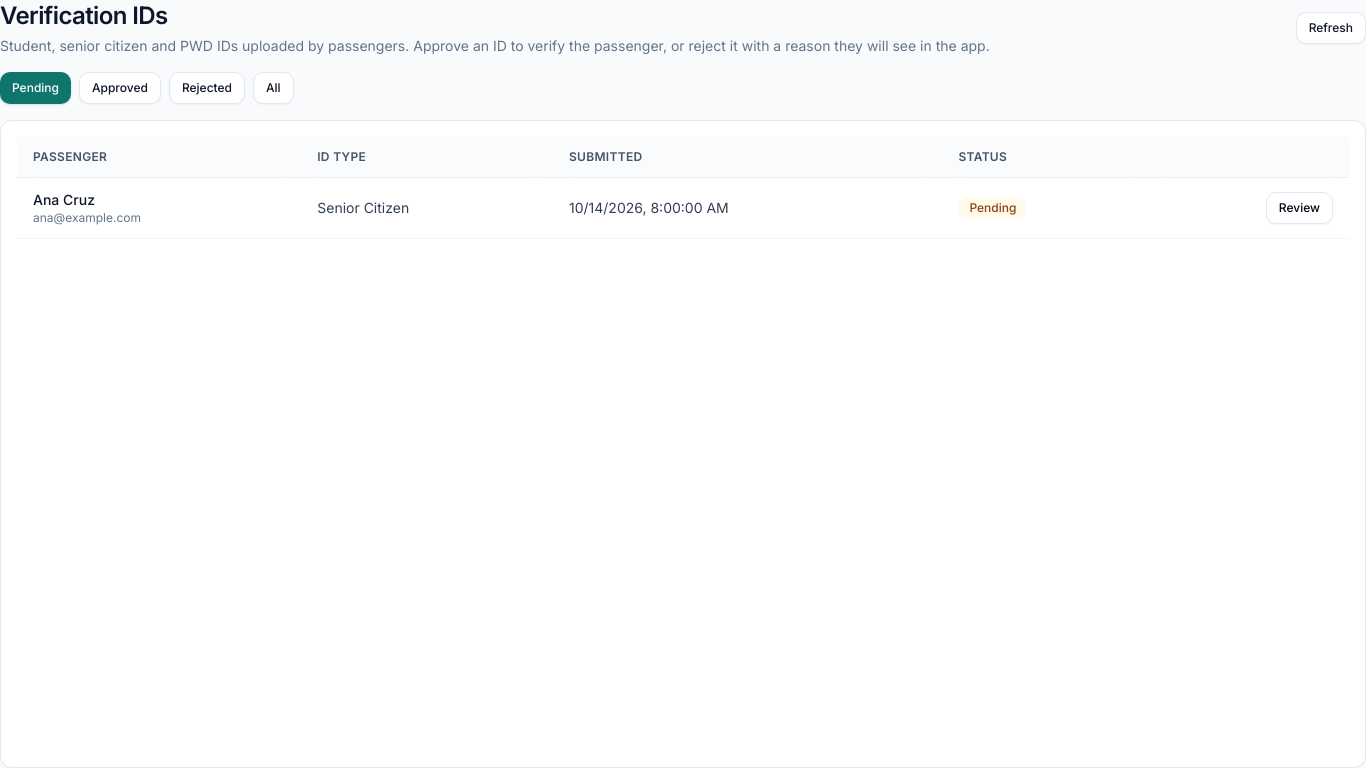
Test: VerificationIdsPage › shows an image error state
Click the button "Review" at (1299, 208), box [1266,192,1333,224]
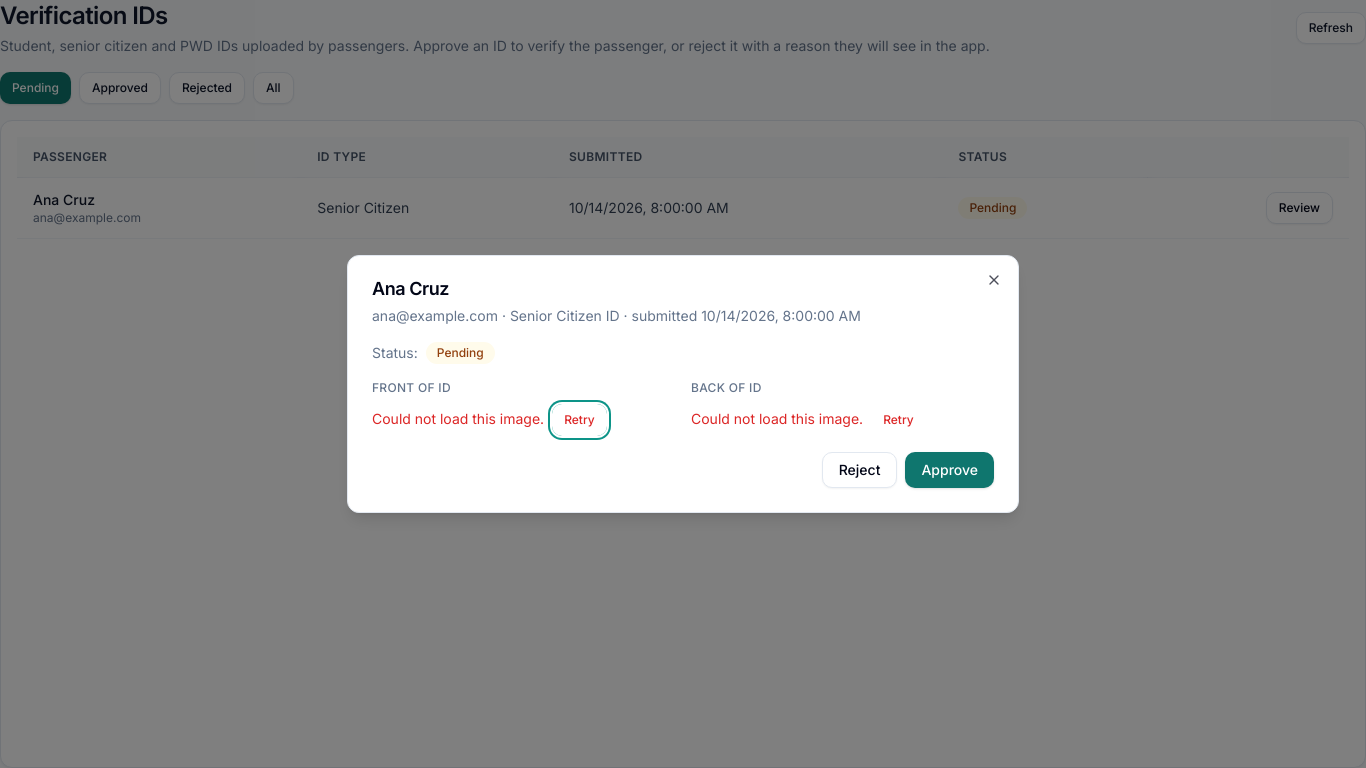
Result: the text "Could not load this image." is shown 2 times at [372,404,607,436]; [691,404,926,436]
